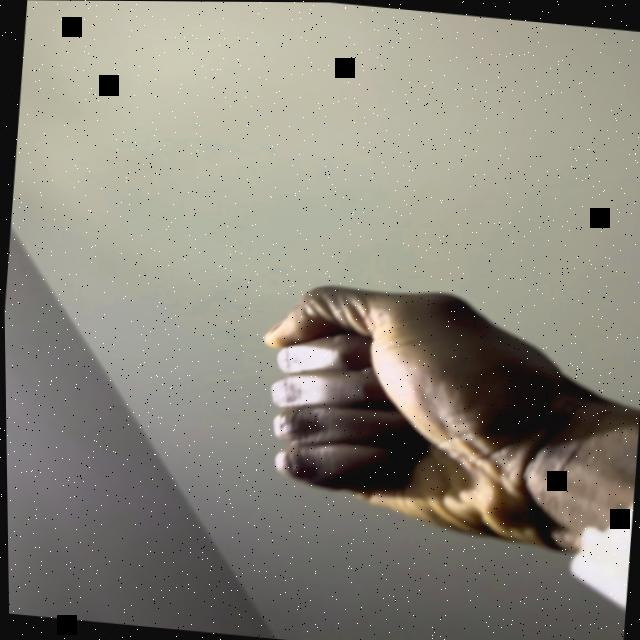Rock: (246, 271, 621, 557)
